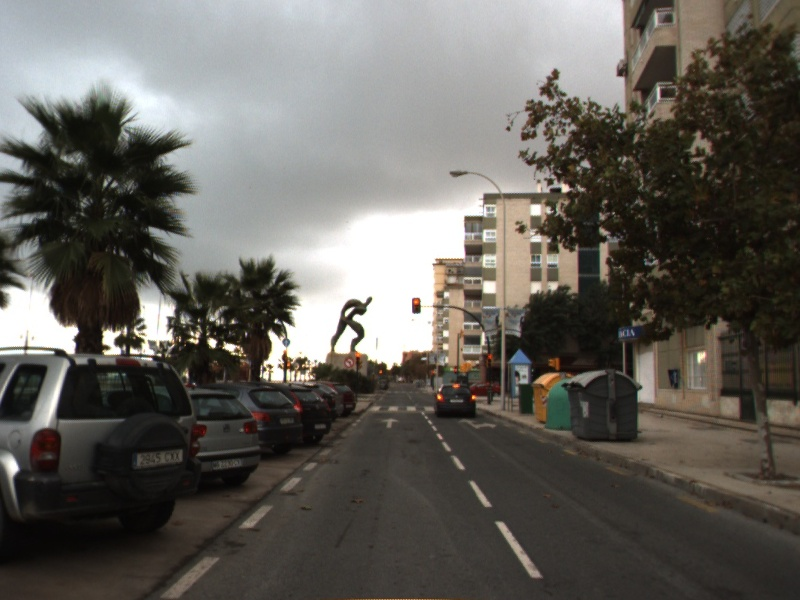STRAIGHT: (379, 417, 401, 429)
STRAIGHT_RIGHT: (456, 416, 499, 431)
